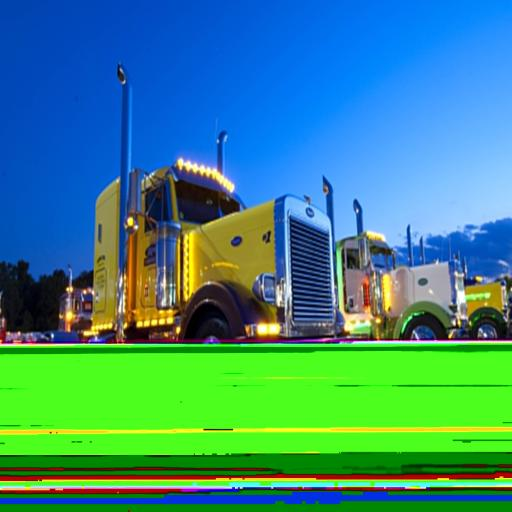truck: (91, 169, 347, 346), (333, 213, 467, 343)
